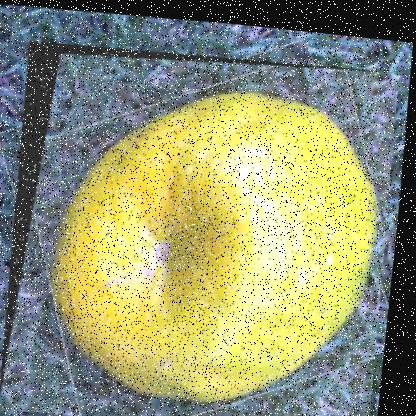orange: (0, 32, 405, 415)
